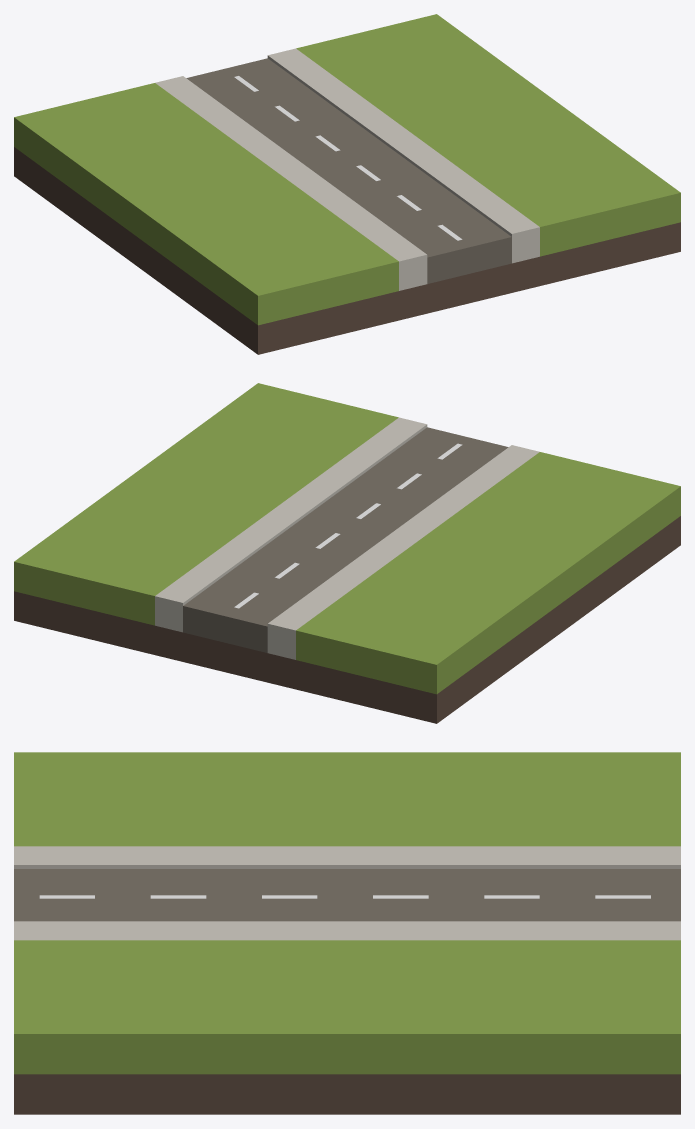
Rendered from road-tile-straight_01.fbx.
3 views of the same model, one above another, from view 1: azimuth 30°, elevation 25°; view 2: azimuth 150°, elevation 25°; view 3: azimuth 270°, elevation 25° (orthographic). The views are drawn at different scales.
Visible parts, largest first — view 1: road-tile-straight_01; view 2: road-tile-straight_01; view 3: road-tile-straight_01.
Part boxes in pixels (bbox=[...]): road-tile-straight_01: bbox=[14, 14, 680, 354]; road-tile-straight_01: bbox=[14, 383, 680, 723]; road-tile-straight_01: bbox=[14, 752, 680, 1114].
Size of the model in its own units: 3000 by 400 by 3000.
